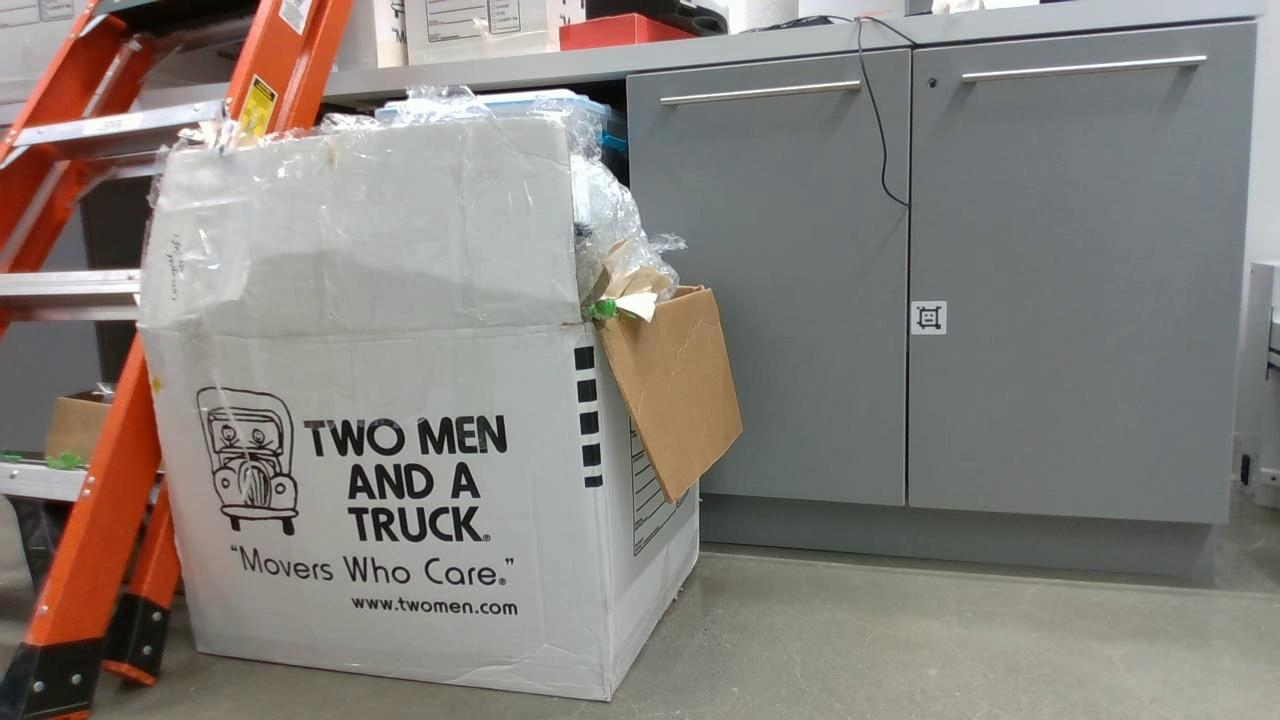grasshopper: (578, 296, 635, 328)
